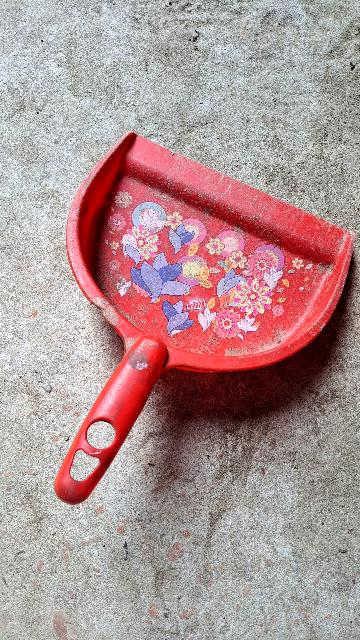hardplastic: (12, 110, 360, 422)
